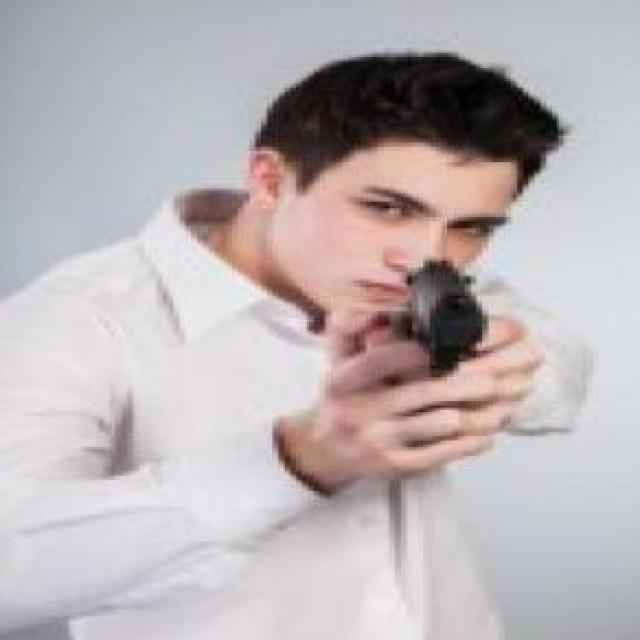pistol: (389, 245, 506, 386)
